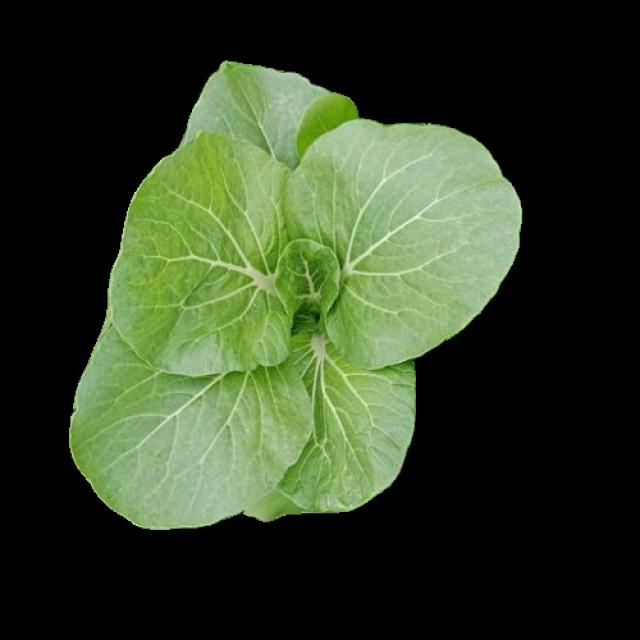healthy: (69, 60, 517, 525)
mature: (72, 63, 520, 527)
